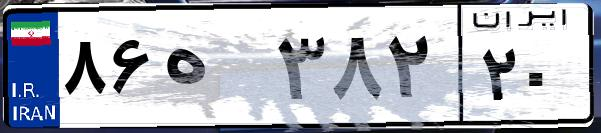0: (525, 38, 570, 115)
2: (385, 28, 445, 110), (475, 38, 525, 113)
3: (270, 28, 330, 110)
6: (110, 28, 158, 98)
8: (330, 28, 385, 110), (57, 26, 110, 100)
ه: (158, 20, 270, 120)
